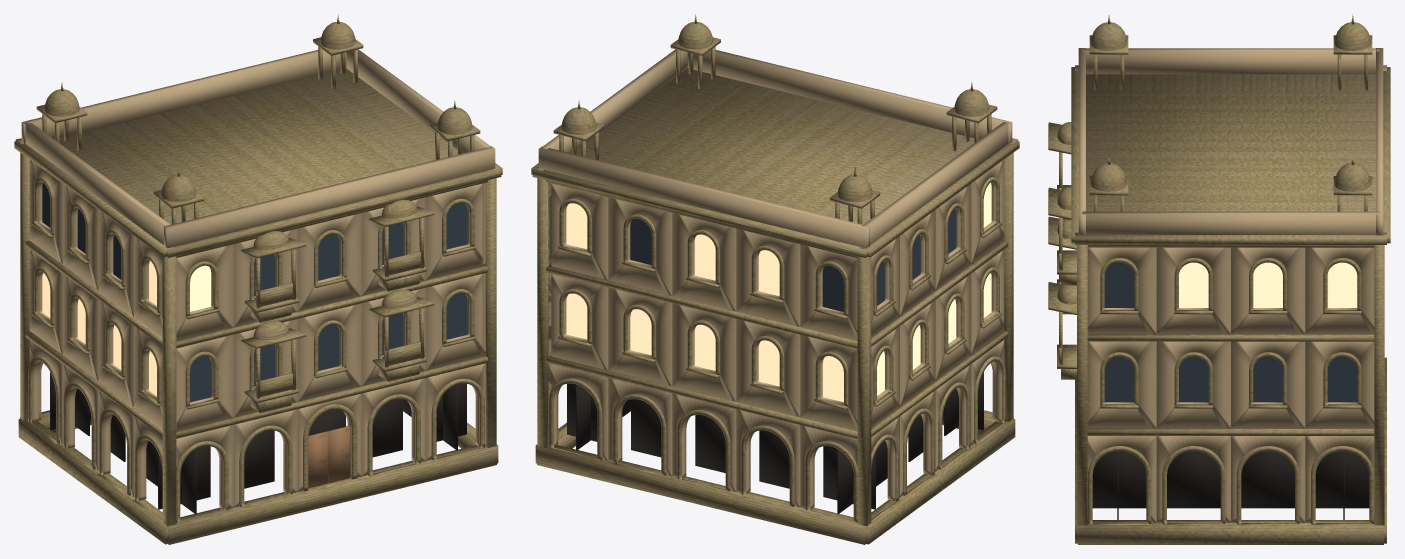
The model's file is haveli.glb.
The picture shows the model from 3 angles, left to right: view 1: azimuth 30°, elevation 25°; view 2: azimuth 150°, elevation 25°; view 3: azimuth 270°, elevation 25°; orthographic projection. The views are drawn at different scales.
Visible parts, largest first — view 1: haveli_baked; view 2: haveli_baked; view 3: haveli_baked.
Part boxes in pixels (left/top/right/bottom): haveli_baked: left=14, top=14, right=502, bottom=544; haveli_baked: left=531, top=14, right=1019, bottom=544; haveli_baked: left=1048, top=14, right=1390, bottom=544.
Size of the model in its own units: 13.75 by 13.95 by 11.52.
1 material, 1 textured.
